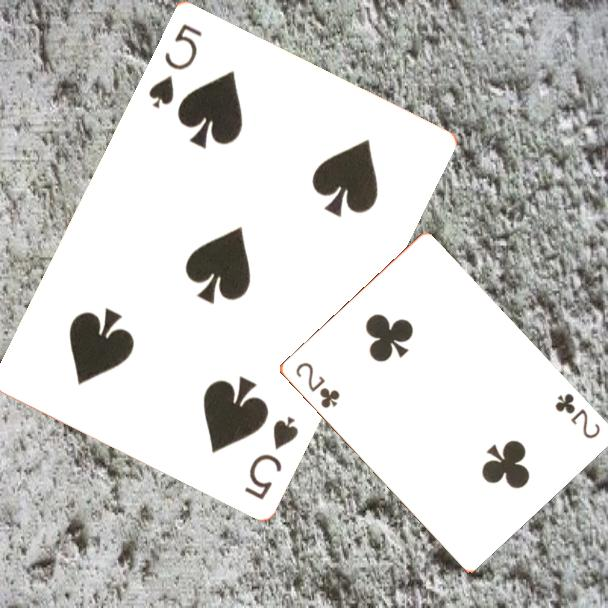c02: (551, 389, 603, 442), (291, 359, 342, 411)
s05: (144, 19, 205, 111), (240, 412, 302, 502)
